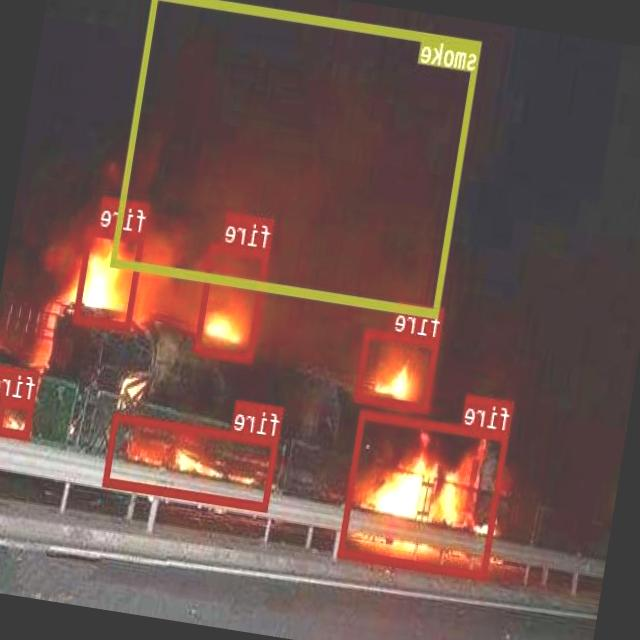fire: (338, 409, 511, 580), (104, 412, 280, 512), (195, 240, 270, 362), (75, 226, 146, 330), (356, 328, 441, 411), (0, 395, 35, 438)
smoke: (112, 0, 483, 317)
